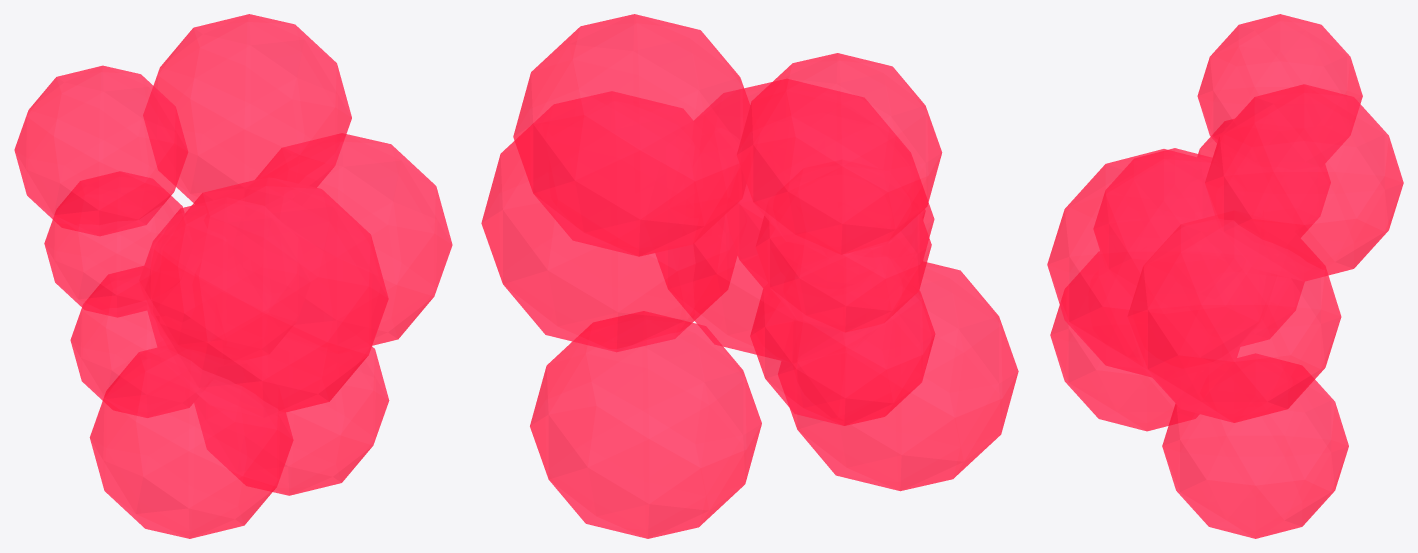
The model's file is mm_fx_death.glb.
3 renders of one model, left to right at view 1: azimuth 30°, elevation 25°; view 2: azimuth 150°, elevation 25°; view 3: azimuth 270°, elevation 25°, orthographic. The views are drawn at different scales.
Parts seen in each view (by area): view 1: mist; view 2: mist; view 3: mist.
Boxes of the visible parts, x1,y1,x2,y2 form: mist: (14,14,452,538); mist: (481,14,1018,538); mist: (1047,14,1403,538).
Bounding box in the file's own units: 1.61 × 1.79 × 1.35.
